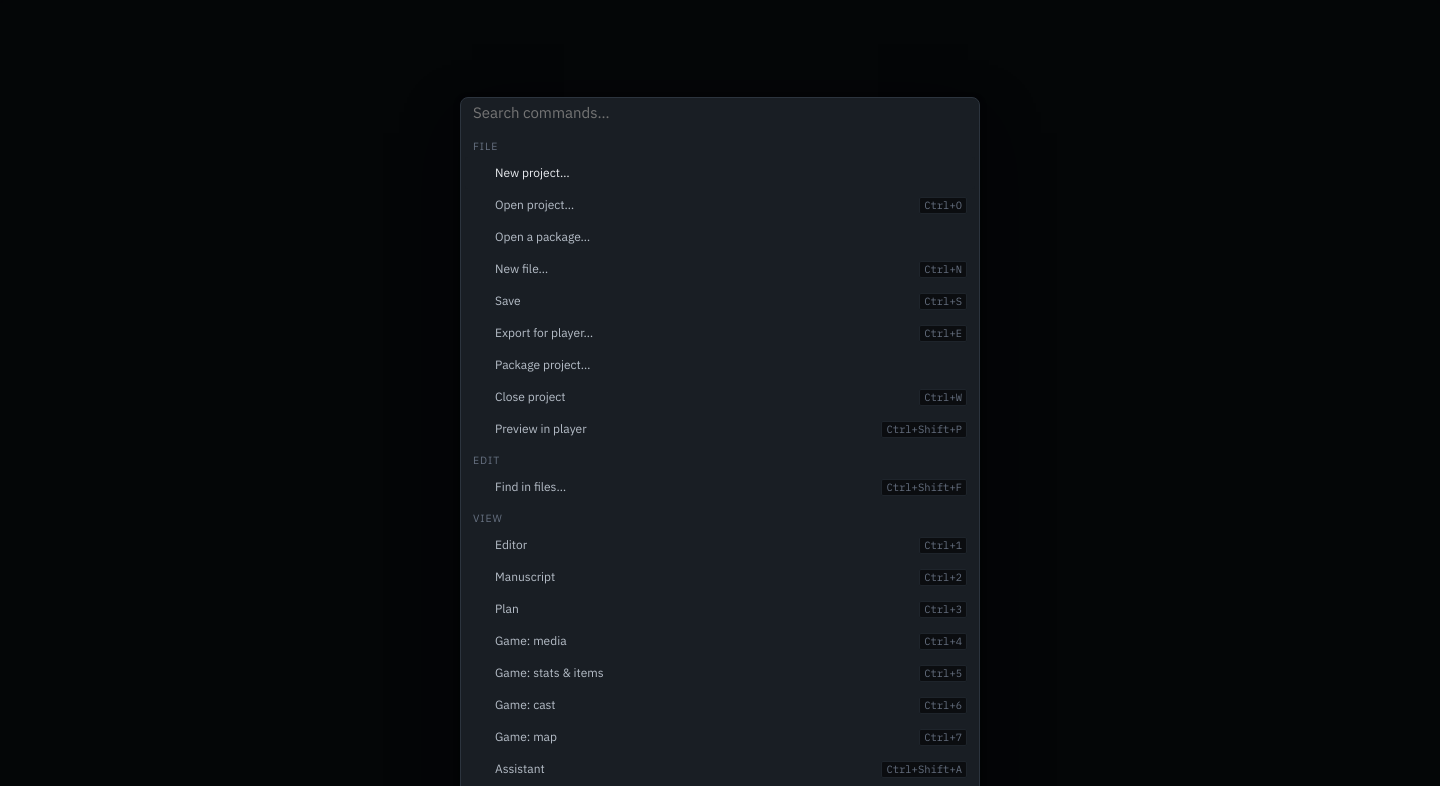
Scenario: CommandPalette › narrows on every word, in any order
Type "game cast" into the field at (720, 113), box 461,98 -> 979,127
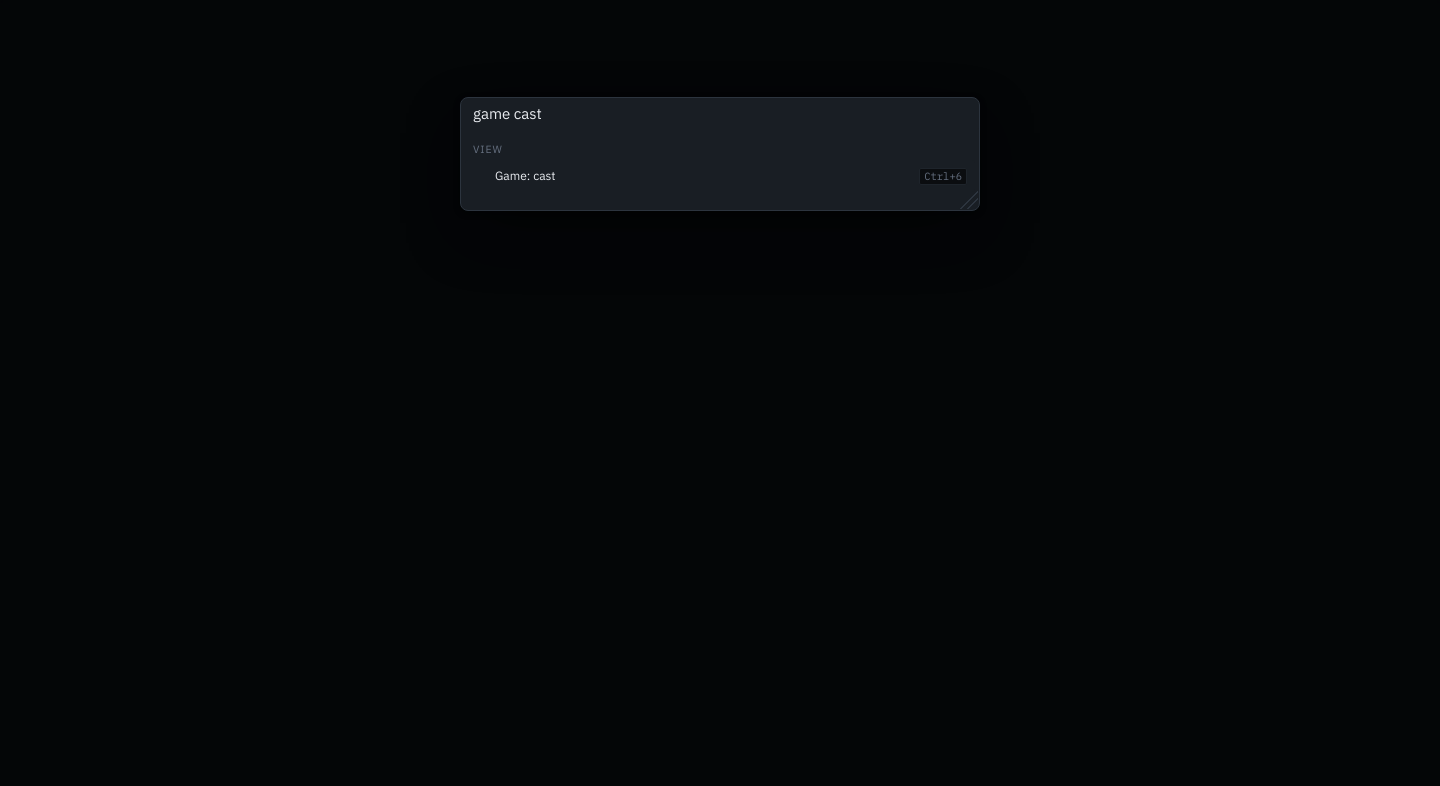
Expected: the button "Game: cast Ctrl+6" is shown, 465,160 -> 975,192
Expected: the button "Manuscript" is gone
